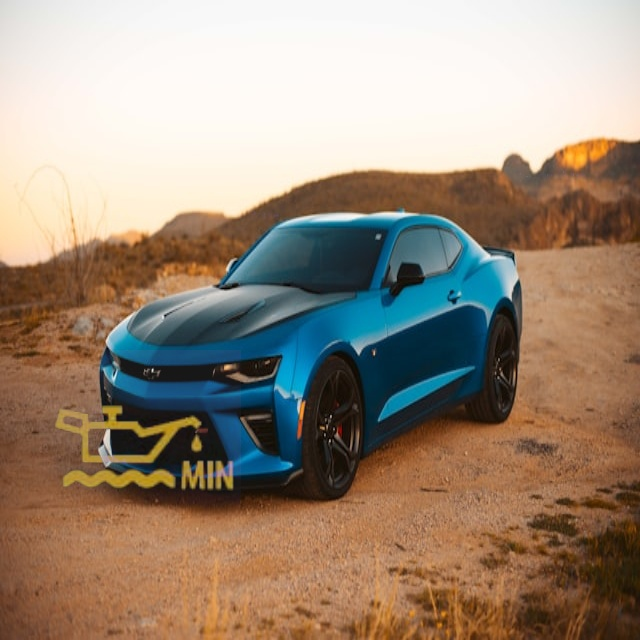symbol: (43, 350, 241, 548), (125, 67, 286, 228), (462, 57, 591, 186)
